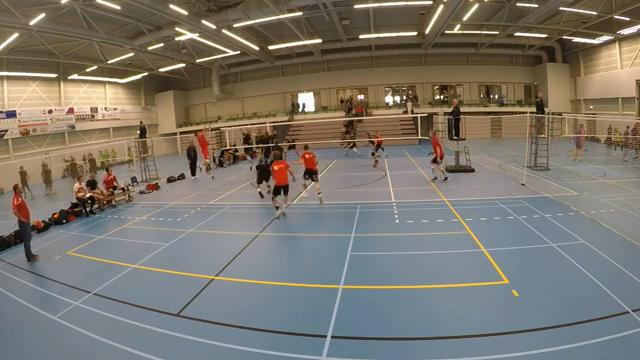Attack: (190, 122, 215, 174)
Block: (239, 125, 256, 171)
Player: (293, 144, 322, 203), (271, 151, 294, 218), (430, 130, 447, 180), (255, 159, 271, 198), (366, 132, 378, 167), (374, 132, 387, 157), (285, 138, 299, 157), (343, 140, 360, 155)
